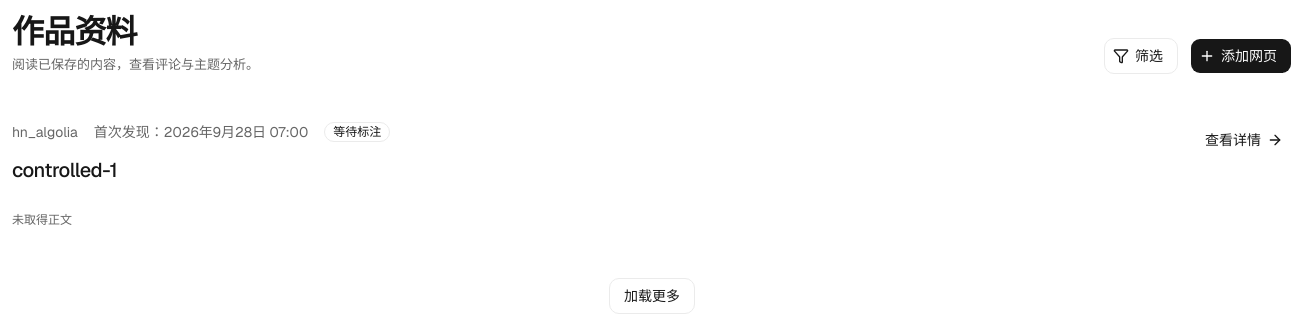
Test: clears old content and pagination after permission denial (401)
Click the button "加载更多" at (652, 296), box [609,278,695,314]
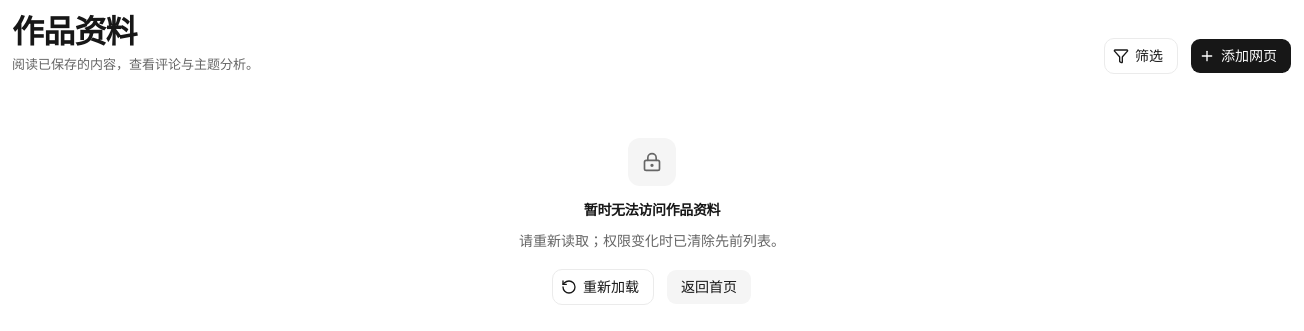
Now the heading "暂时无法访问作品资料" is shown, box [584,198,720,222]
Now the button "加载更多" is gone
Now the link "controlled-1" is gone
